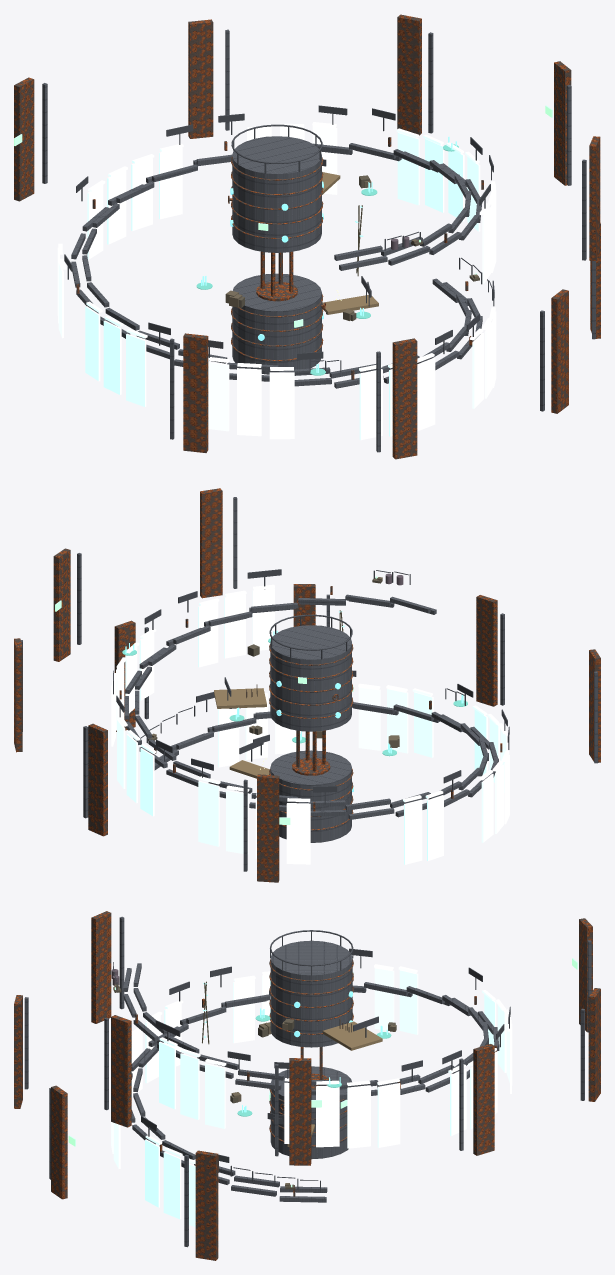
File: channels_dressing.glb
3 views of the same model, one above another, from view 1: azimuth 30°, elevation 25°; view 2: azimuth 150°, elevation 25°; view 3: azimuth 270°, elevation 25° (orthographic). The views are drawn at different scales.
Visible parts, largest first — view 1: Drum_shell_1, Drum_shell_0, Fin_2, Fin_3, Fin_5, Fin_6, Fin_4, Fin_1, Fall_S2_0, Fall_S2_1, Fin_7, Fall_S2_2 (+22 smaller); view 2: Drum_shell_1, Drum_shell_0, Fin_4, Fin_8, Fin_2, Fin_5, Fin_7, Fall_S5_0, Fall_S5_3, Fall_S1_0, Fall_S5_2, Fall_S8_1 (+22 smaller); view 3: Drum_shell_1, Fin_0, Fin_7, Fin_6, Fin_8, Fin_3, Drum_shell_0, Fin_1, Fall_S7_1, Fall_S7_0, Fin_5, Fall_S7_2 (+17 smaller).
Boxes of the visible parts, x1=… form: Drum_shell_1: x1=232, y1=136, x2=321, y2=252; Drum_shell_0: x1=232, y1=273, x2=321, y2=374; Fin_2: x1=392, y1=338, x2=417, y2=459; Fin_3: x1=183, y1=333, x2=208, y2=452; Fin_5: x1=188, y1=19, x2=213, y2=138; Fin_6: x1=397, y1=14, x2=421, y2=135; Fin_4: x1=14, y1=77, x2=34, y2=201; Fin_1: x1=551, y1=289, x2=568, y2=413; Fall_S2_0: x1=269, y1=372, x2=294, y2=439; Fall_S2_1: x1=237, y1=368, x2=261, y2=436; Fin_7: x1=554, y1=61, x2=571, y2=185; Fall_S2_2: x1=208, y1=362, x2=229, y2=431; Drum_shell_1: x1=270, y1=625, x2=351, y2=731; Drum_shell_0: x1=270, y1=750, x2=351, y2=842; Fin_4: x1=257, y1=774, x2=279, y2=882; Fin_8: x1=200, y1=488, x2=222, y2=598; Fin_2: x1=476, y1=595, x2=497, y2=706; Fin_5: x1=88, y1=723, x2=107, y2=836; Fin_7: x1=53, y1=548, x2=70, y2=661; Fall_S5_0: x1=286, y1=803, x2=310, y2=864; Fall_S5_3: x1=198, y1=781, x2=219, y2=846; Fall_S1_0: x1=358, y1=687, x2=380, y2=750; Fall_S5_2: x1=226, y1=790, x2=248, y2=854; Fall_S8_1: x1=224, y1=594, x2=245, y2=658; Drum_shell_1: x1=270, y1=940, x2=352, y2=1047; Fin_0: x1=195, y1=1150, x2=218, y2=1260; Fin_7: x1=289, y1=1058, x2=311, y2=1165; Fin_6: x1=473, y1=1044, x2=494, y2=1155; Fin_8: x1=111, y1=1015, x2=131, y2=1127; Fin_3: x1=91, y1=911, x2=111, y2=1023; Drum_shell_0: x1=270, y1=1066, x2=351, y2=1159; Fin_1: x1=51, y1=1085, x2=67, y2=1199; Fall_S7_1: x1=347, y1=1085, x2=370, y2=1148; Fall_S7_0: x1=377, y1=1083, x2=400, y2=1147; Fin_5: x1=588, y1=988, x2=600, y2=1101; Fall_S7_2: x1=316, y1=1085, x2=339, y2=1147.
Bounding box in the file's own units: 40.61 × 20.15 × 45.74.
Materials: 31 (14 with a texture image).
